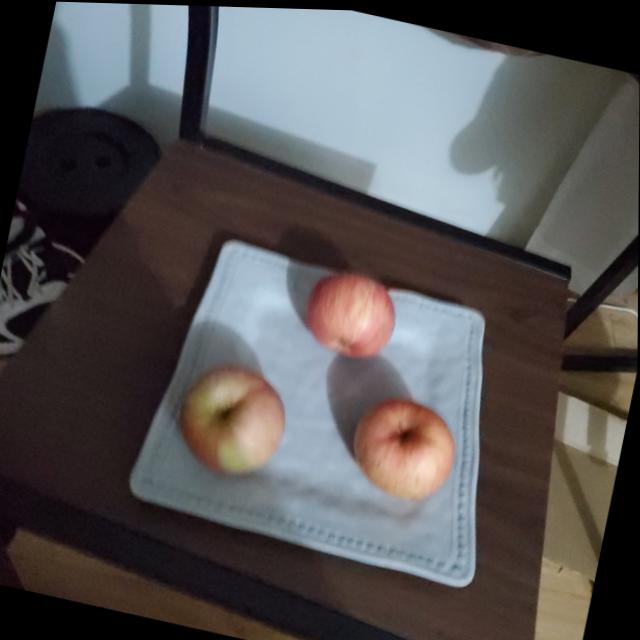apple: (173, 356, 296, 483), (343, 388, 465, 508), (297, 261, 406, 365)
